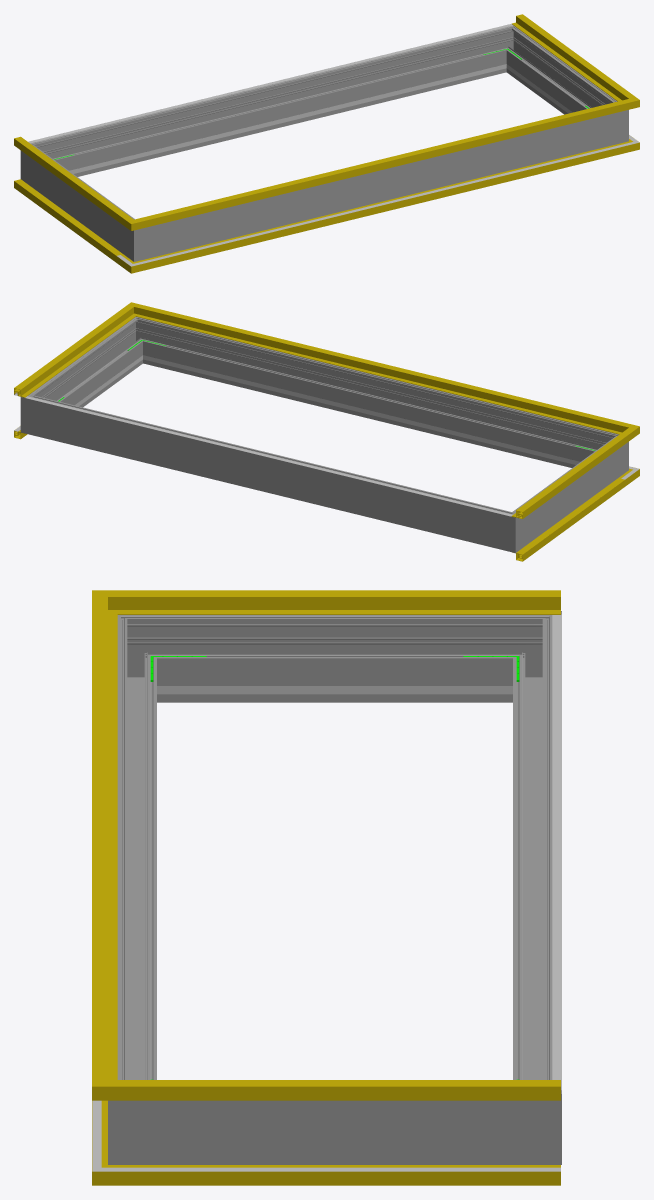
3 renders of one model, top to bottom at view 1: azimuth 30°, elevation 25°; view 2: azimuth 150°, elevation 25°; view 3: azimuth 270°, elevation 25°, orthographic. The views are drawn at different scales.
Visible parts, largest first — view 1: 3DGeom-276, 3DGeom-298, 3DGeom-123, 3DGeom-11, 3DGeom-297, 3DGeom-268, 3DGeom-244, 3DGeom-128, 3DGeom-118, 3DGeom-220, 3DGeom-20, 3DGeom-270 (+8 smaller); view 2: 3DGeom-298, 3DGeom-276, 3DGeom-123, 3DGeom-297, 3DGeom-268, 3DGeom-239, 3DGeom-128, 3DGeom-118, 3DGeom-278, 3DGeom-220, 3DGeom-6, 3DGeom-284 (+5 smaller); view 3: 3DGeom-268, 3DGeom-297, 3DGeom-276, 3DGeom-298, 3DGeom-123, 3DGeom-118, 3DGeom-128, 3DGeom-16, 3DGeom-220, 3DGeom-284, 3DGeom-290, 3DGeom-278 (+6 smaller).
Part boxes in pixels (bbox=[...]): 3DGeom-276: bbox=[48, 30, 502, 176]; 3DGeom-298: bbox=[159, 116, 603, 255]; 3DGeom-123: bbox=[153, 103, 614, 224]; 3DGeom-11: bbox=[153, 146, 614, 267]; 3DGeom-297: bbox=[509, 34, 610, 114]; 3DGeom-268: bbox=[35, 152, 127, 250]; 3DGeom-244: bbox=[78, 70, 481, 172]; 3DGeom-128: bbox=[512, 14, 624, 98]; 3DGeom-118: bbox=[14, 136, 122, 220]; 3DGeom-220: bbox=[28, 24, 513, 143]; 3DGeom-20: bbox=[154, 147, 613, 260]; 3DGeom-270: bbox=[119, 214, 159, 261]; 3DGeom-298: bbox=[147, 322, 601, 467]; 3DGeom-276: bbox=[46, 399, 494, 546]; 3DGeom-123: bbox=[150, 308, 613, 431]; 3DGeom-297: bbox=[39, 325, 140, 407]; 3DGeom-268: bbox=[522, 443, 614, 541]; 3DGeom-239: bbox=[167, 361, 570, 463]; 3DGeom-128: bbox=[14, 313, 127, 397]; 3DGeom-118: bbox=[511, 435, 625, 518]; 3DGeom-278: bbox=[490, 505, 530, 552]; 3DGeom-220: bbox=[24, 396, 512, 516]; 3DGeom-6: bbox=[512, 478, 625, 561]; 3DGeom-284: bbox=[20, 387, 50, 438]; 3DGeom-268: bbox=[166, 615, 503, 702]; 3DGeom-297: bbox=[166, 1100, 503, 1164]; 3DGeom-276: bbox=[513, 635, 552, 1079]; 3DGeom-298: bbox=[117, 635, 156, 1079]; 3DGeom-123: bbox=[92, 615, 117, 1074]; 3DGeom-118: bbox=[150, 590, 560, 614]; 3DGeom-128: bbox=[150, 1080, 560, 1100]; 3DGeom-16: bbox=[150, 1165, 560, 1185]; 3DGeom-220: bbox=[552, 614, 561, 1090]; 3DGeom-284: bbox=[503, 1069, 561, 1164]; 3DGeom-290: bbox=[108, 1069, 166, 1164]; 3DGeom-278: bbox=[503, 611, 561, 702].
Bounding box in the file's own units: 3.05 × 0.2836 × 1.22.
